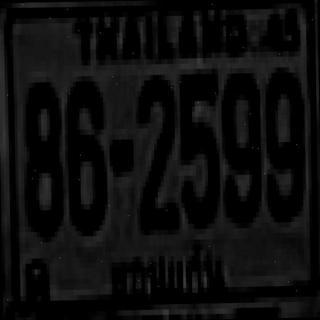N02: (136, 72, 174, 227)
N05: (179, 68, 217, 224)
N06: (65, 78, 103, 228)
N08: (23, 76, 61, 232)
N09: (262, 67, 303, 217), (221, 68, 259, 218)
P18: (104, 238, 232, 314)
